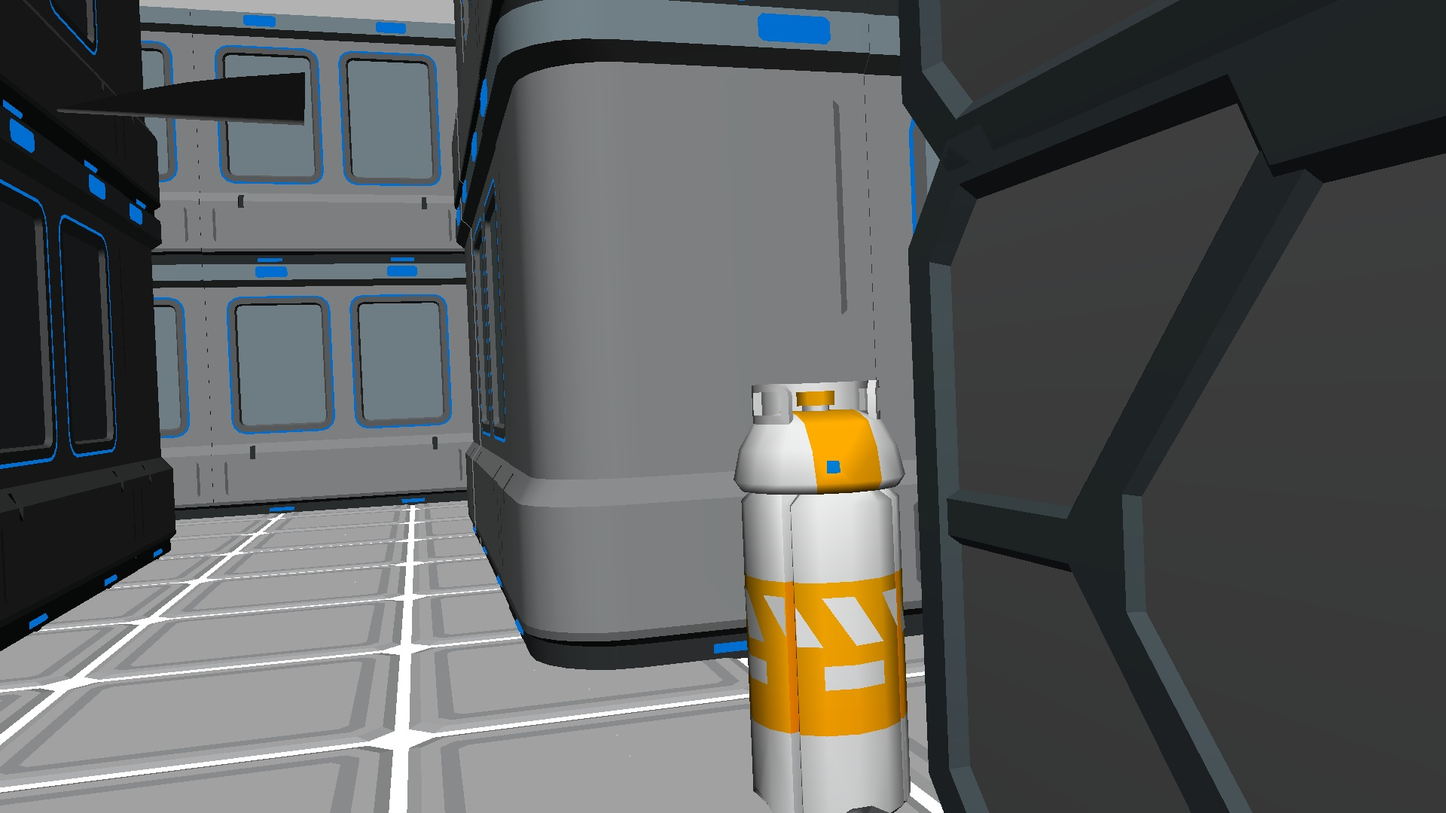yellow barrel: (733, 380, 911, 813)
